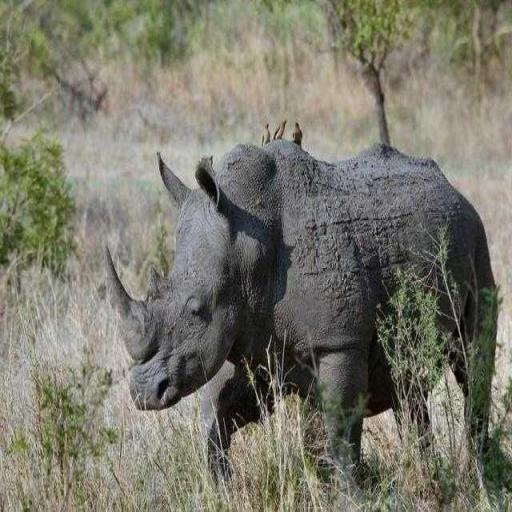Rhino: (103, 136, 500, 493)
